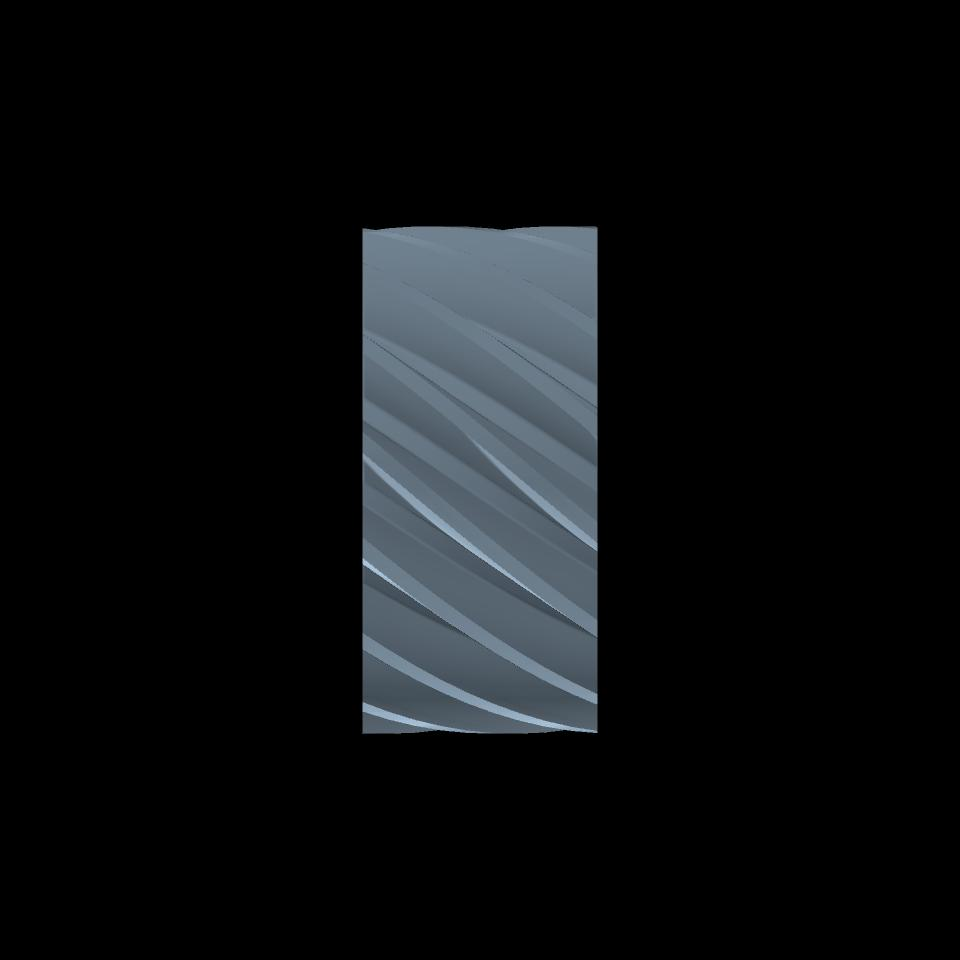Helical: (363, 226, 598, 733)
